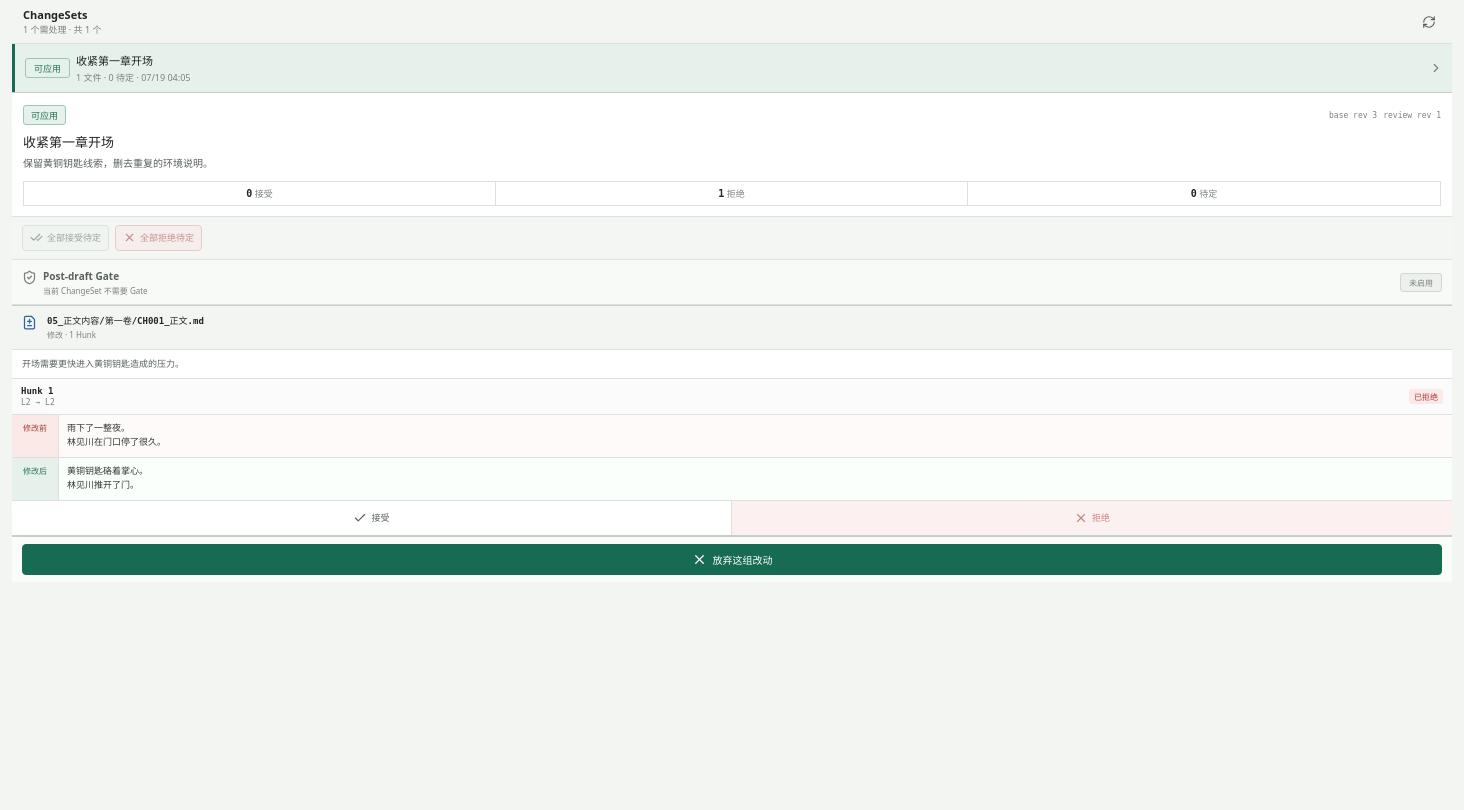
Test: ChangeSetReview › labels an all-rejected ready ChangeSet as an explicit discard action
Click the button "放弃这组改动": (732, 559) [22,544,1442,575]
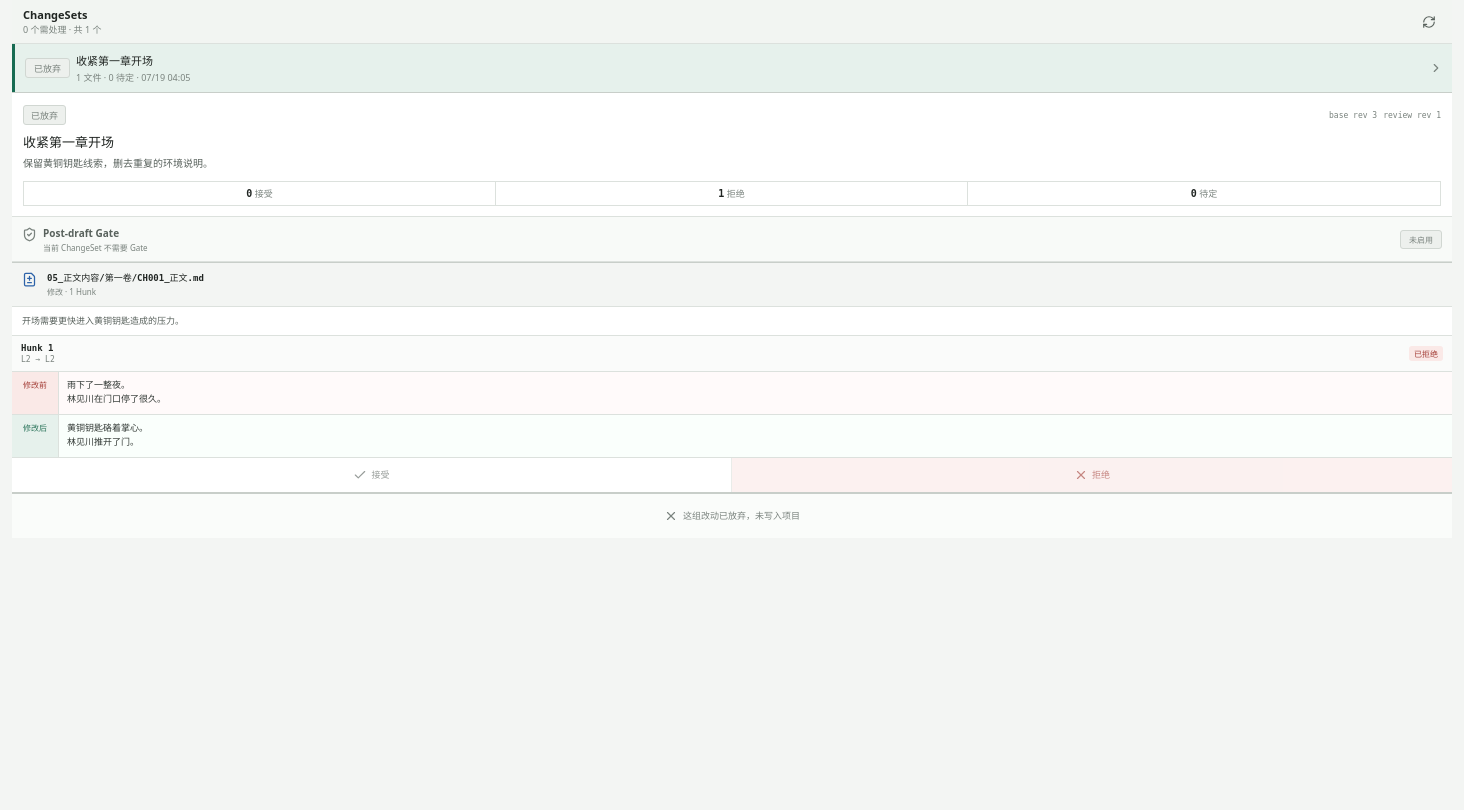
Result: the text "这组改动已放弃，未写入项目" is shown at [664,509,800,523]
